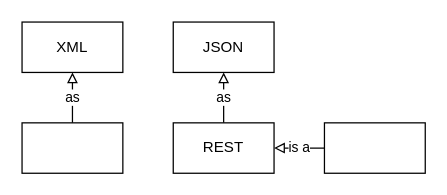
The diagram is 447 pixels wide and 195 high, and some of its shapes have lost their labels. The shapes that lost their labels are listed below. From the top down, each one's box as (x1, y1, x2, y2) in pixels, then its label:
(21, 122, 123, 173): SOAP
(323, 122, 425, 173): OData
